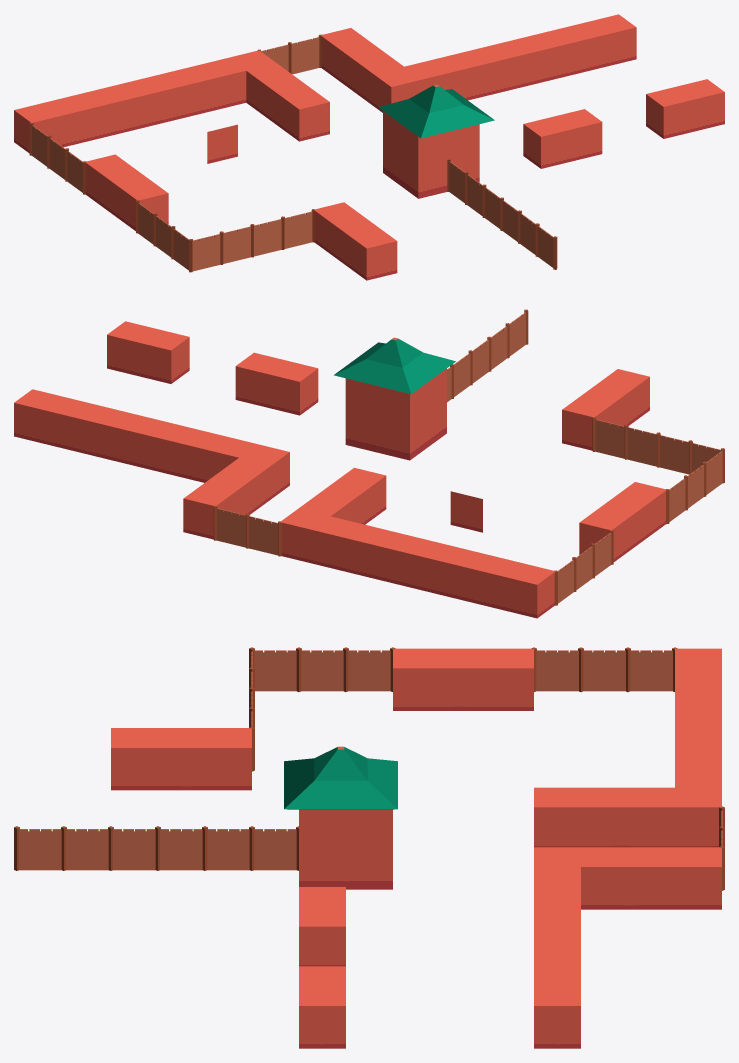
Rendered from lvl-1.obj.
The picture shows the model from 3 angles, top to bottom: view 1: azimuth 30°, elevation 25°; view 2: azimuth 150°, elevation 25°; view 3: azimuth 270°, elevation 25°; orthographic projection. The views are drawn at different scales.
Parts seen in each view (by area): view 1: block, fence_garden, roof_pointHigh; view 2: block, fence_garden, roof_pointHigh; view 3: block, fence_garden, roof_pointHigh.
Part boxes in pixels (x1=…): block: x1=14, y1=14, x2=724, y2=280; fence_garden: x1=29, y1=34, x2=557, y2=272; roof_pointHigh: x1=378, y1=84, x2=494, y2=138; block: x1=14, y1=321, x2=666, y2=618; fence_garden: x1=213, y1=309, x2=724, y2=605; roof_pointHigh: x1=334, y1=337, x2=455, y2=394; block: x1=111, y1=648, x2=721, y2=1048; fence_garden: x1=14, y1=647, x2=724, y2=890; roof_pointHigh: x1=284, y1=746, x2=397, y2=809.
Size of the model in its own units: 36.13 by 5.81 by 30.25.
1 material, 1 textured.
